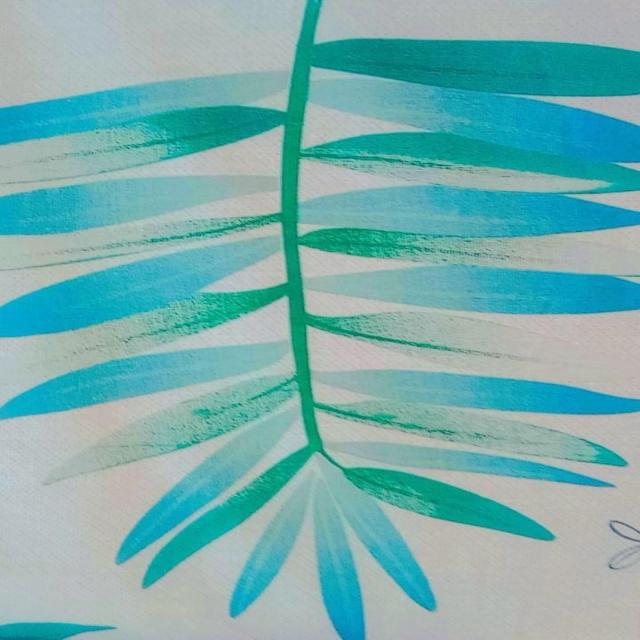color issues: (7, 74, 283, 167), (306, 134, 617, 204), (48, 386, 283, 470), (318, 394, 601, 462), (321, 312, 609, 376), (327, 223, 635, 280), (238, 470, 446, 550), (9, 212, 285, 272), (24, 294, 261, 359), (312, 54, 451, 128)
